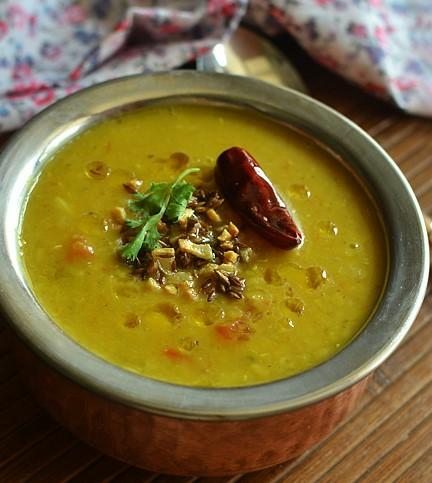Dal: (18, 94, 391, 391)
